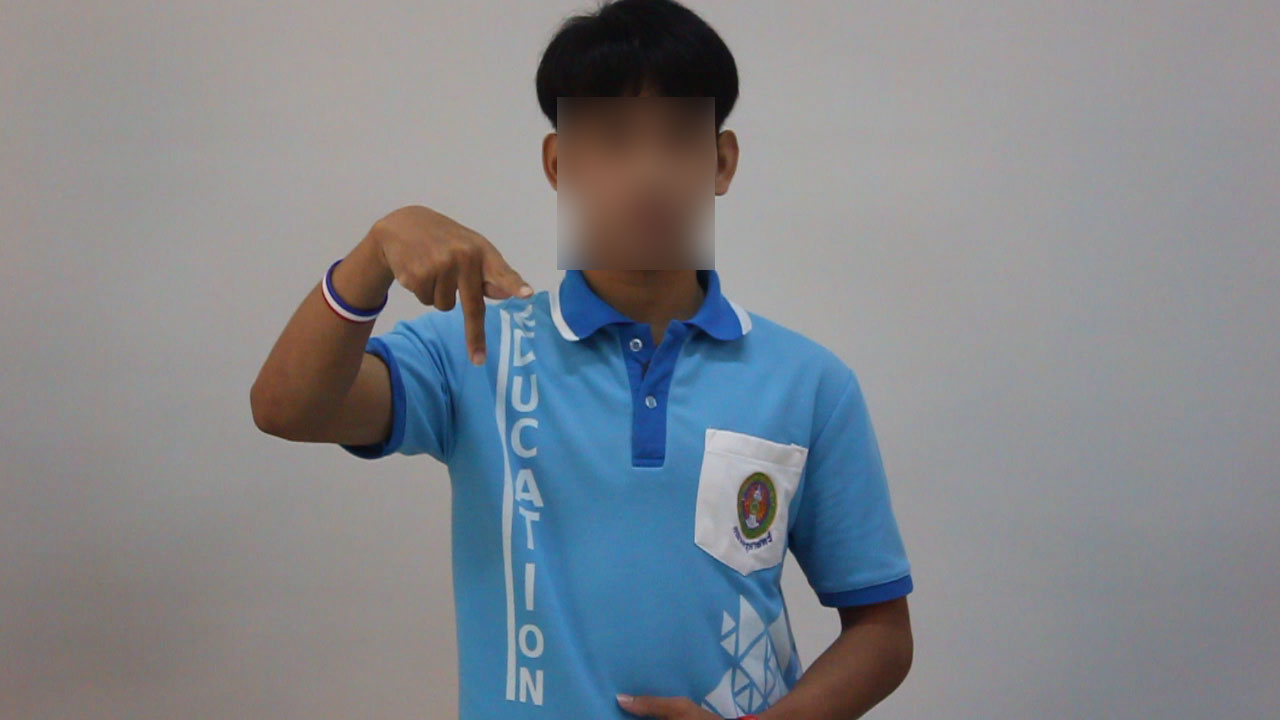por: (361, 179, 540, 373)
